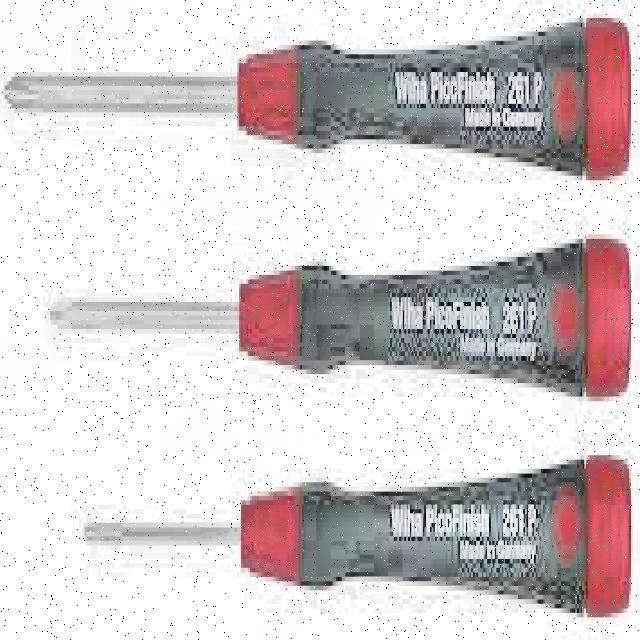screwdriver: (3, 18, 630, 175), (50, 238, 631, 394), (87, 454, 630, 616)
